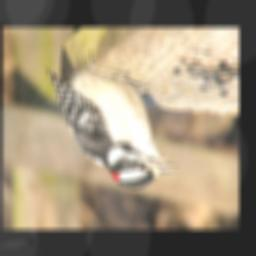Woodpecker: (44, 50, 181, 188)
